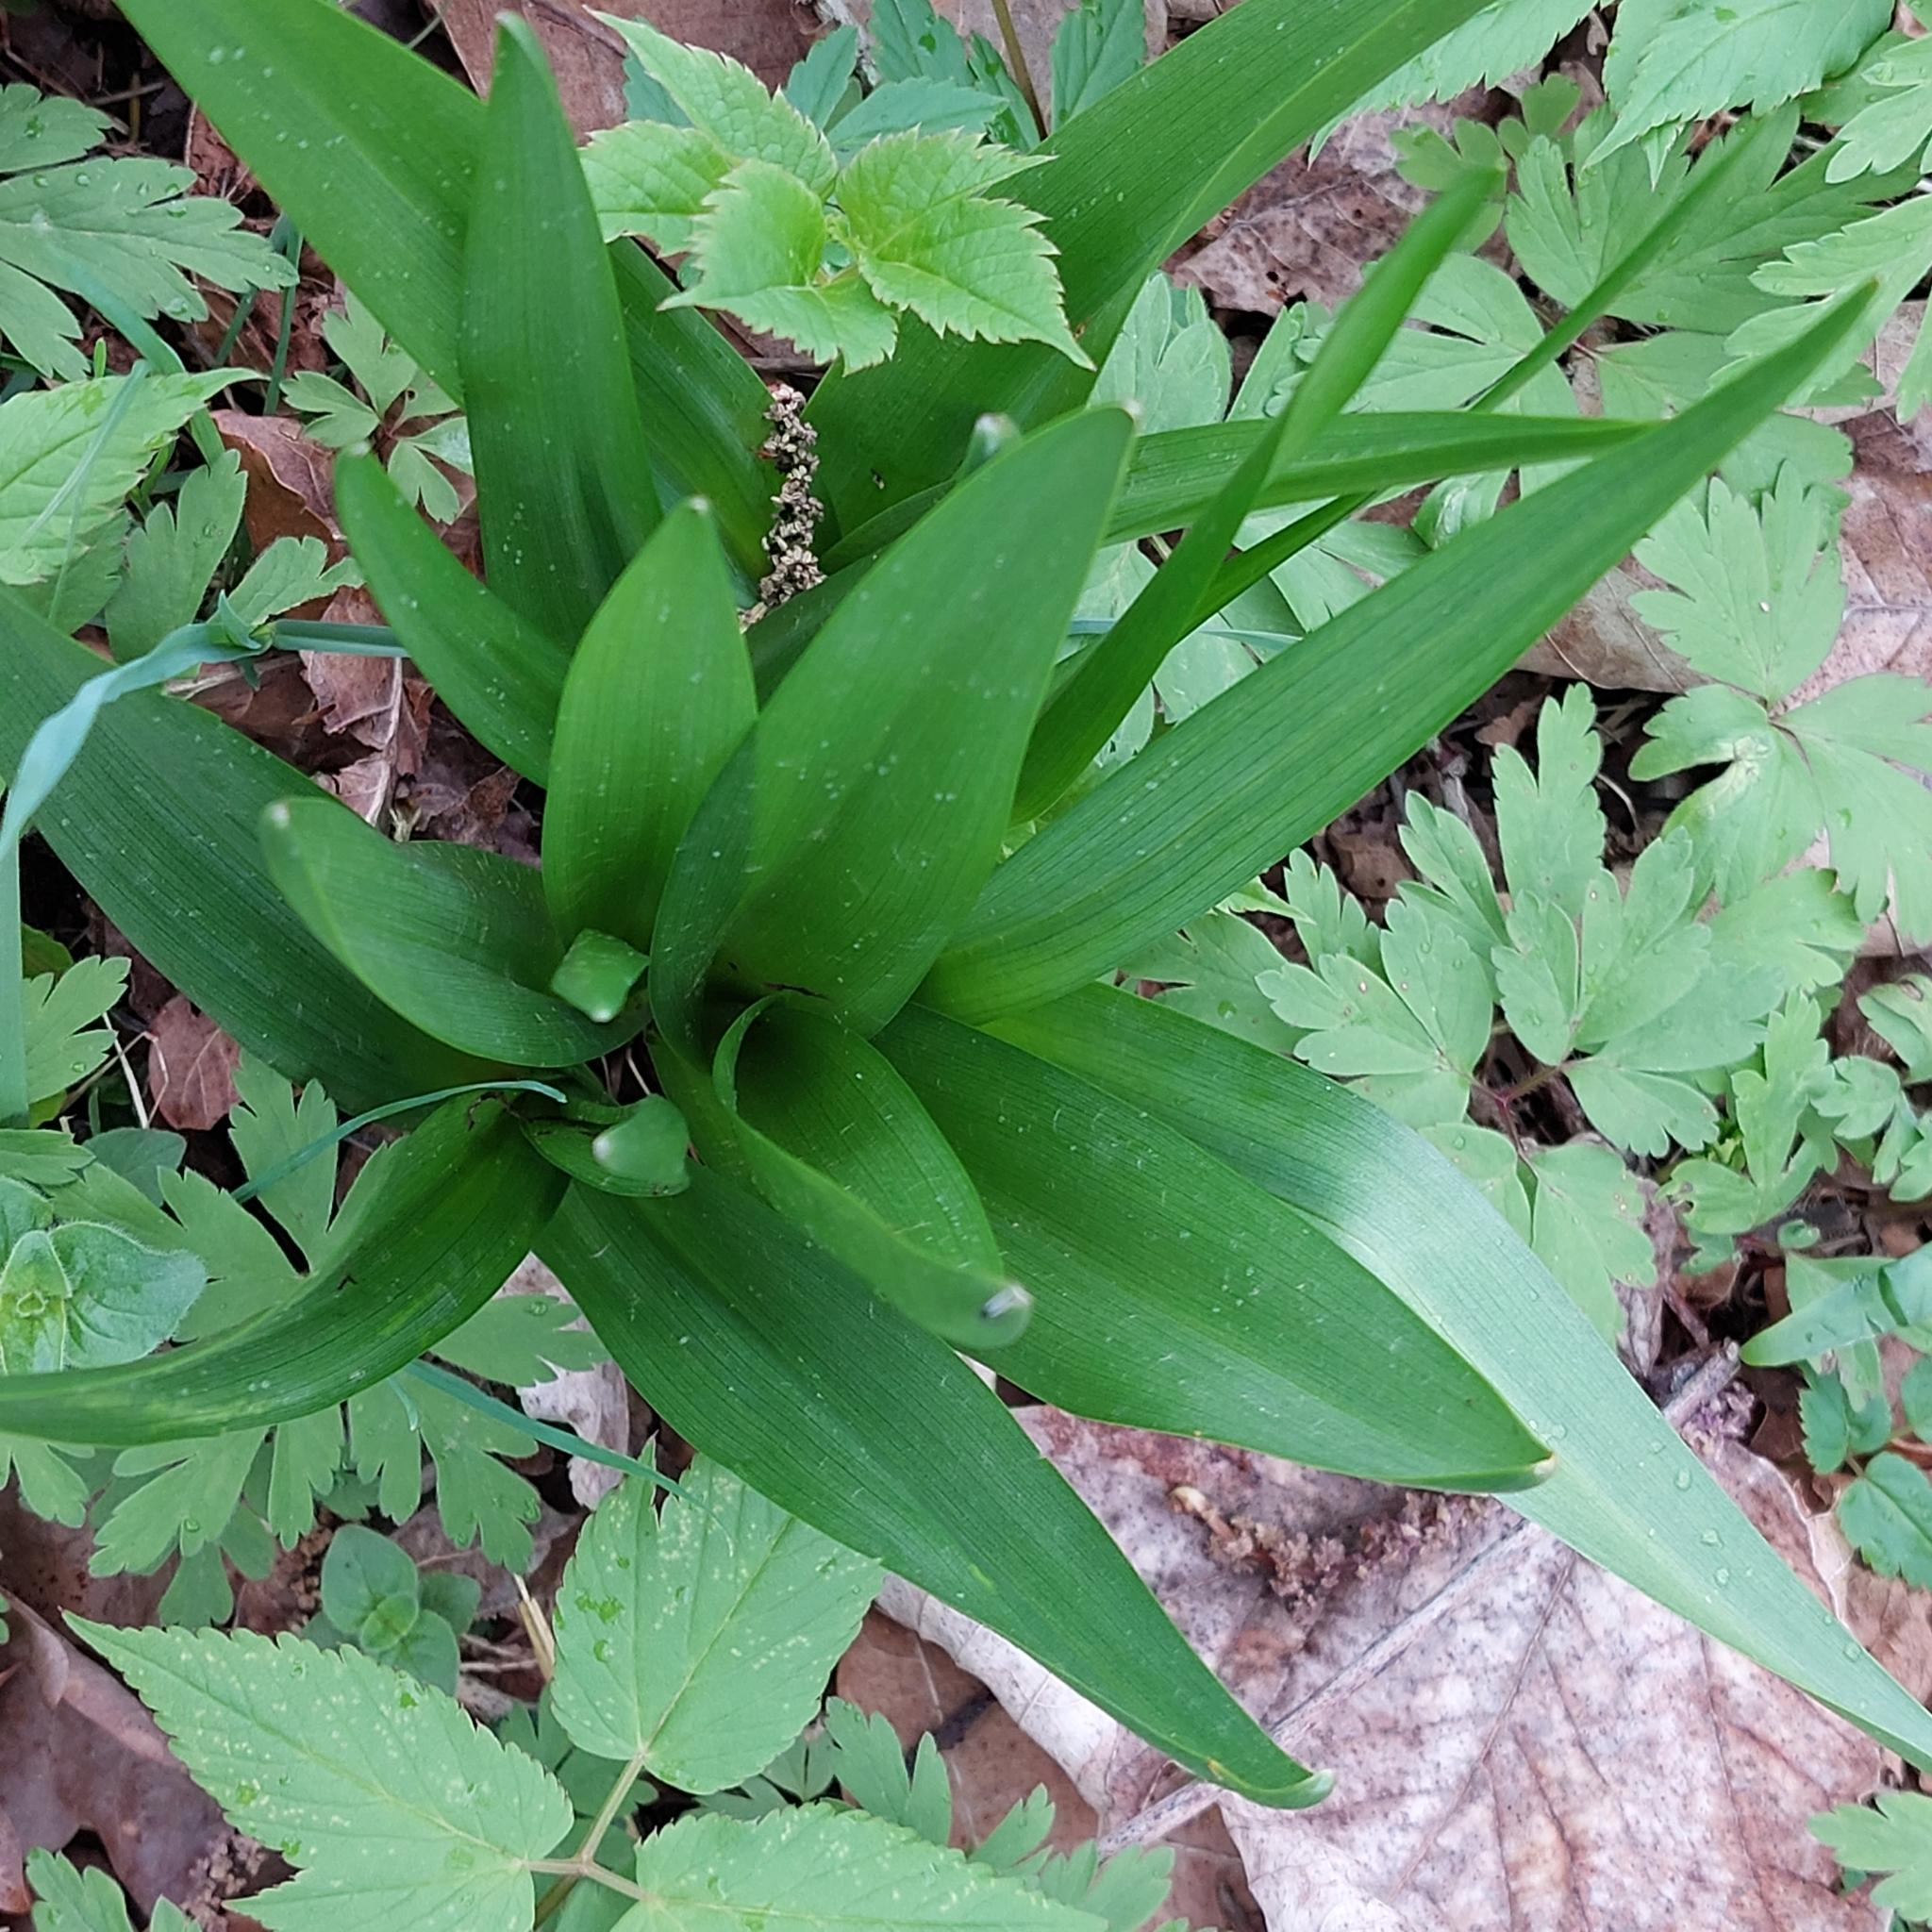Colchicum autumnale L: (155, 168, 1657, 1743)
